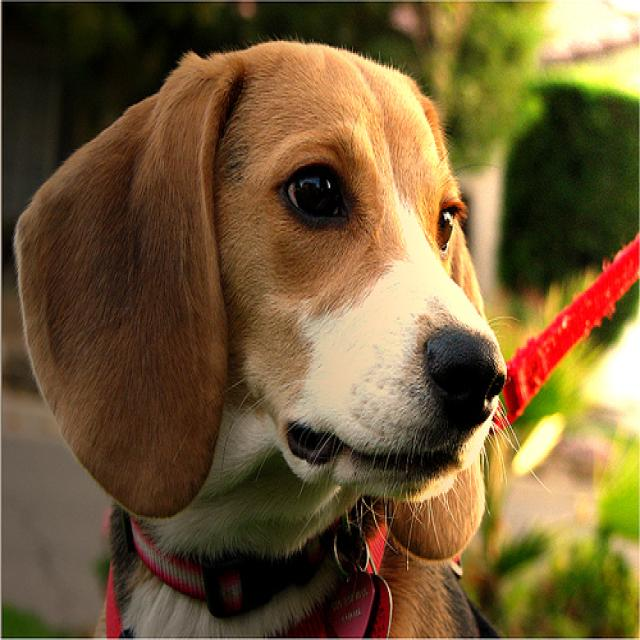dog-beagle: (8, 26, 517, 637)
